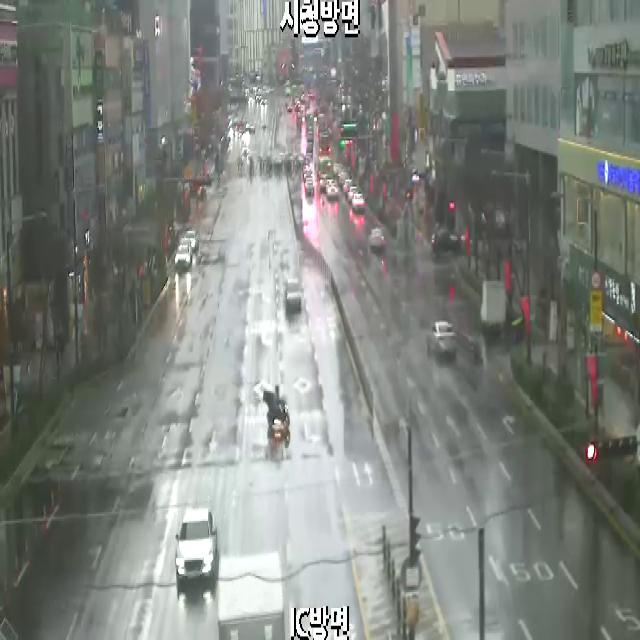Bus: (319, 157, 333, 187)
Car: (175, 507, 217, 581), (426, 320, 456, 358), (285, 278, 302, 310), (175, 239, 192, 267), (369, 228, 385, 251), (184, 231, 199, 250), (326, 180, 339, 198), (339, 168, 352, 184), (352, 194, 364, 210), (348, 187, 358, 202), (305, 180, 314, 196), (333, 164, 343, 177), (303, 168, 313, 180), (344, 180, 352, 193)
Motorcycle: (258, 360, 294, 450)
Truck: (480, 281, 506, 331)
